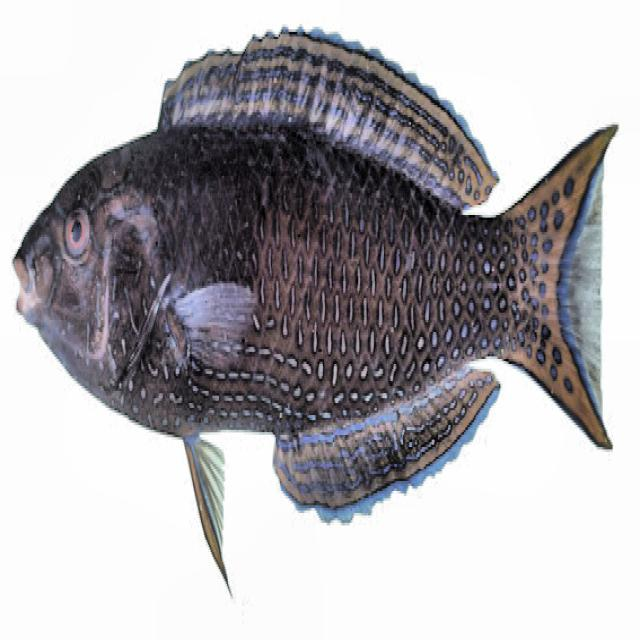fish: (8, 22, 621, 600)
